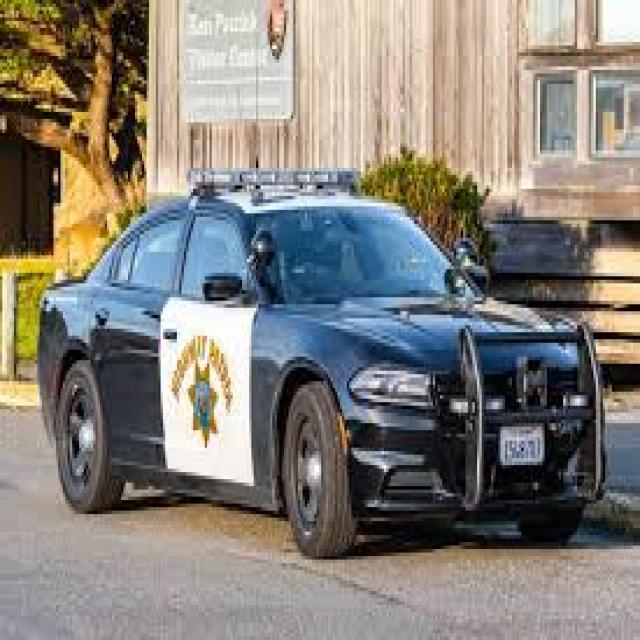cop: (39, 162, 604, 562)
